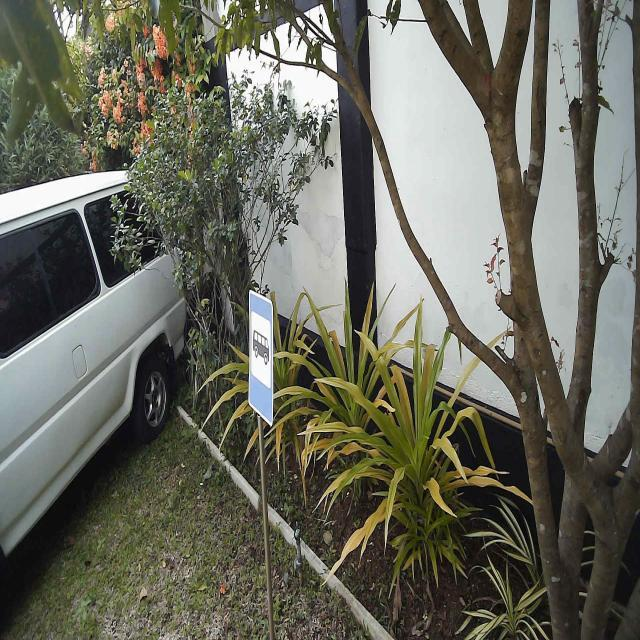bus_stop: (248, 287, 276, 428)
